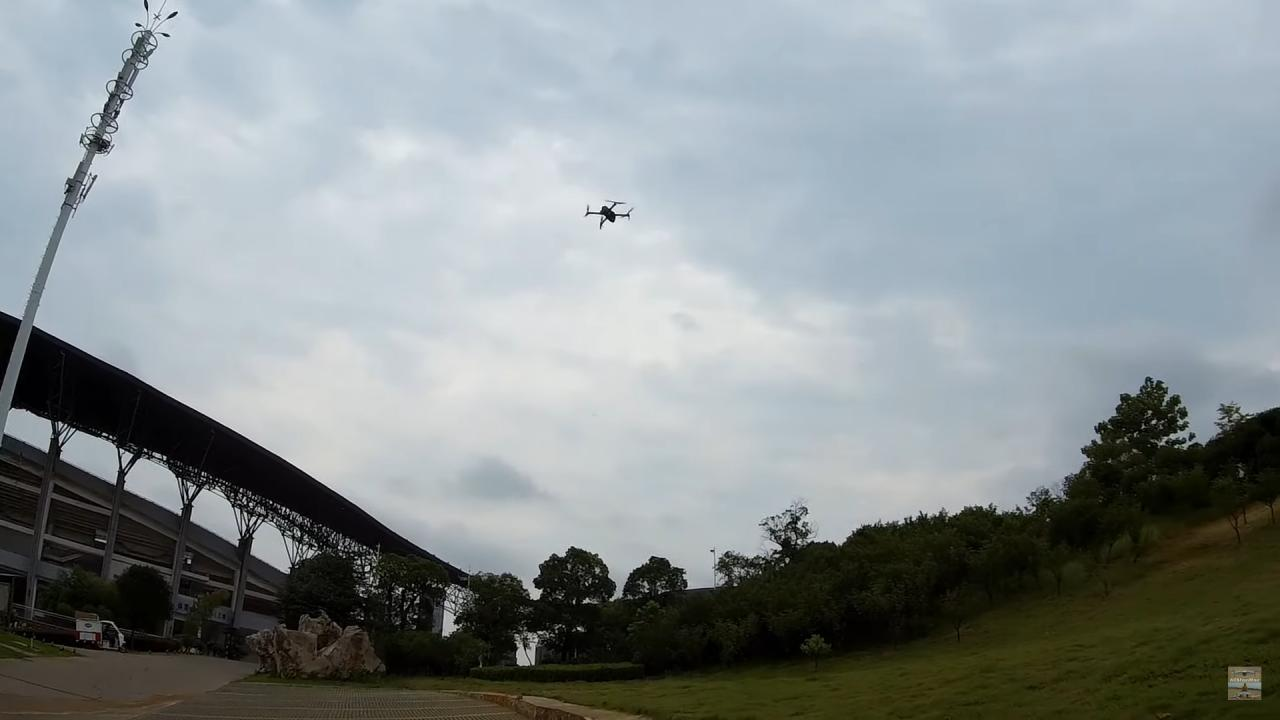Drone: (574, 190, 639, 238)
